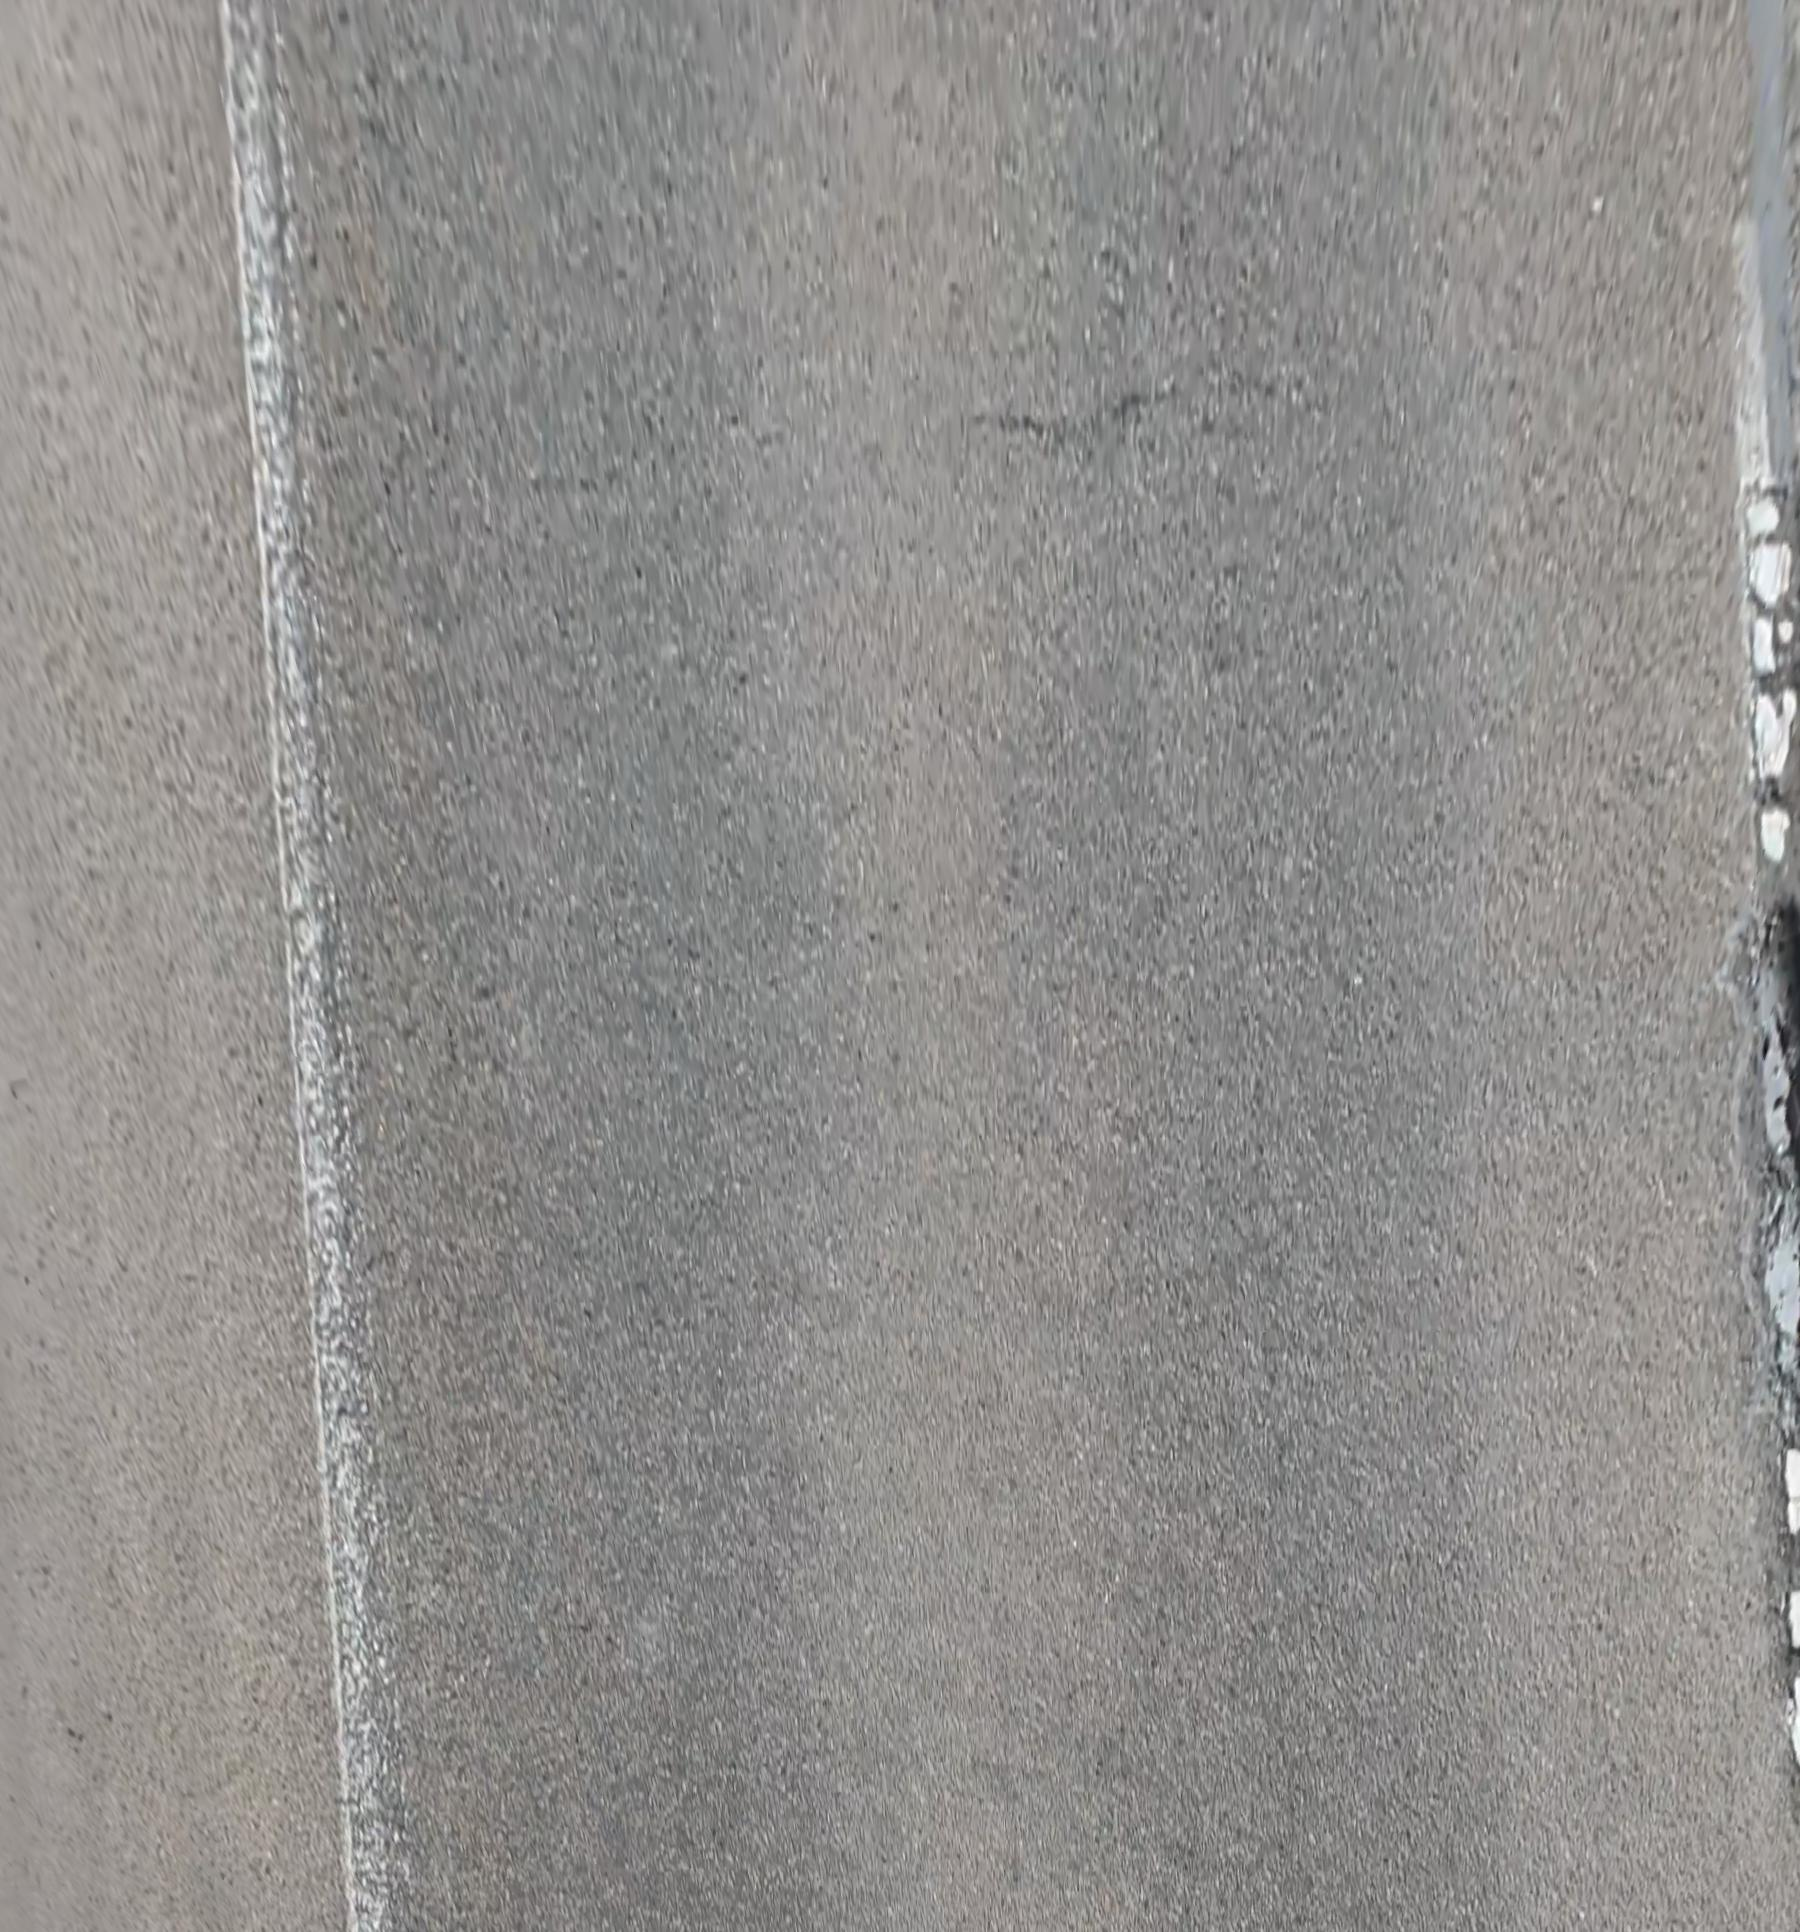pothole: (1720, 856, 1800, 1188)
